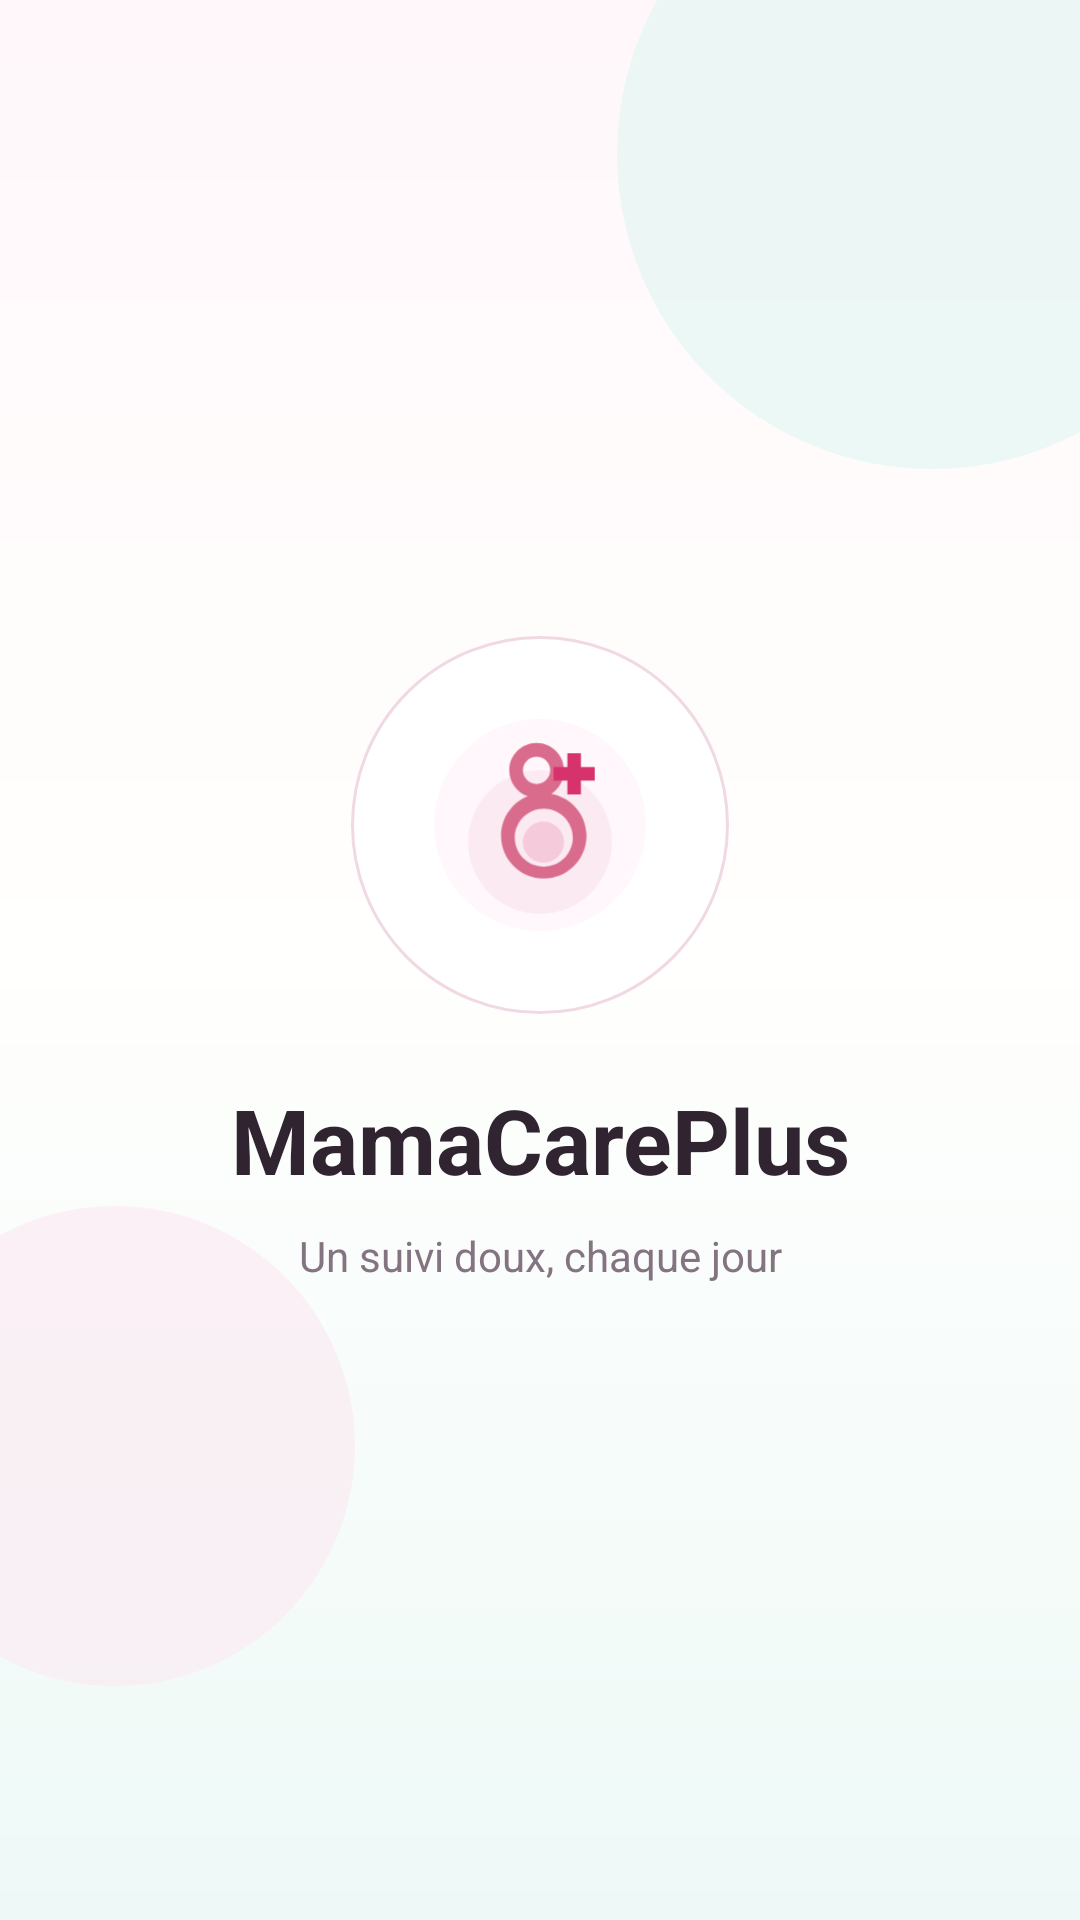

Icons on this 1080 x 1920 Android screen, each with its box as (x1, y1, x2, y2):
maternity health: (500, 742, 595, 879)
